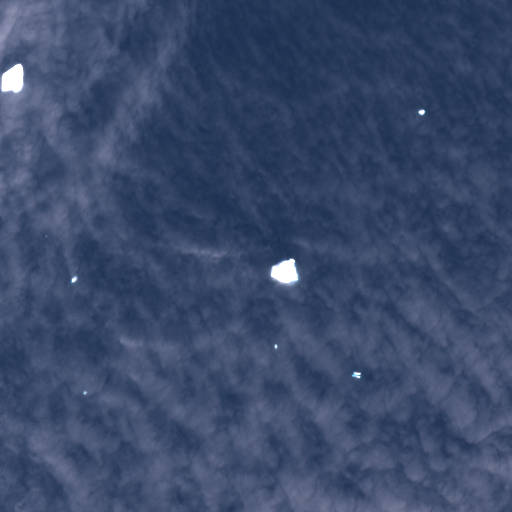Iceberg: (270, 258, 298, 283), (1, 63, 23, 92), (351, 371, 361, 378), (70, 275, 77, 282), (417, 109, 425, 115), (274, 344, 277, 348), (83, 391, 86, 394), (45, 235, 47, 237)
